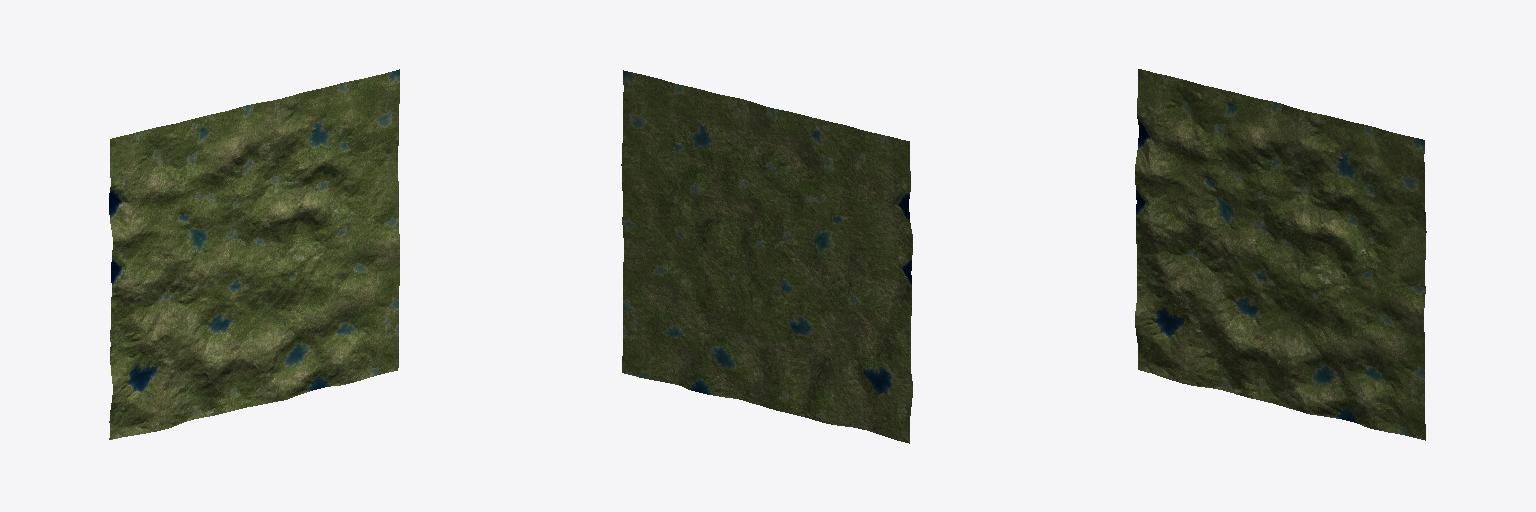
3 renders of one model, left to right at view 1: azimuth 30°, elevation 25°; view 2: azimuth 150°, elevation 25°; view 3: azimuth 330°, elevation 25°, orthographic.
Parts seen in each view (by area): view 1: terrain_o; view 2: terrain_o; view 3: terrain_o.
Part boxes in pixels (bbox=[...]): terrain_o: bbox=[109, 69, 399, 439]; terrain_o: bbox=[621, 70, 912, 443]; terrain_o: bbox=[1135, 69, 1426, 440].
Bounding box in the file's own units: 10230 × 10230 × 365.
Materials: 1 (1 with a texture image).